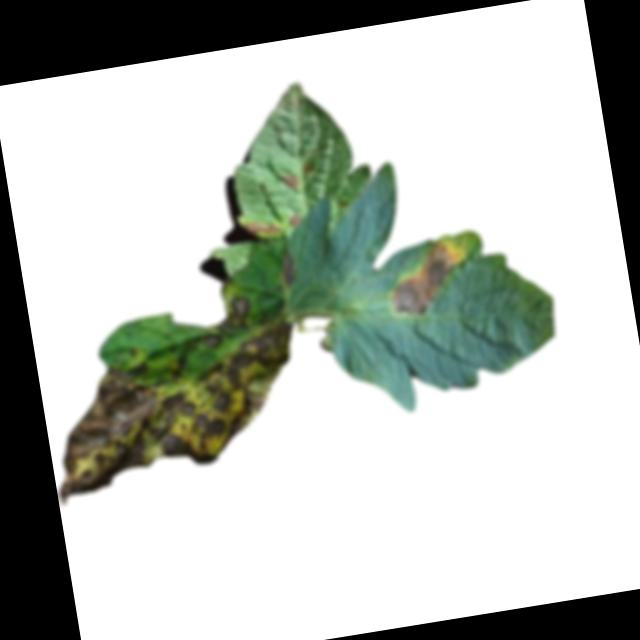Early_blight: (41, 321, 316, 504), (377, 234, 470, 322), (198, 292, 254, 337), (239, 216, 282, 238), (275, 253, 300, 286), (278, 166, 302, 190), (286, 213, 304, 228)
